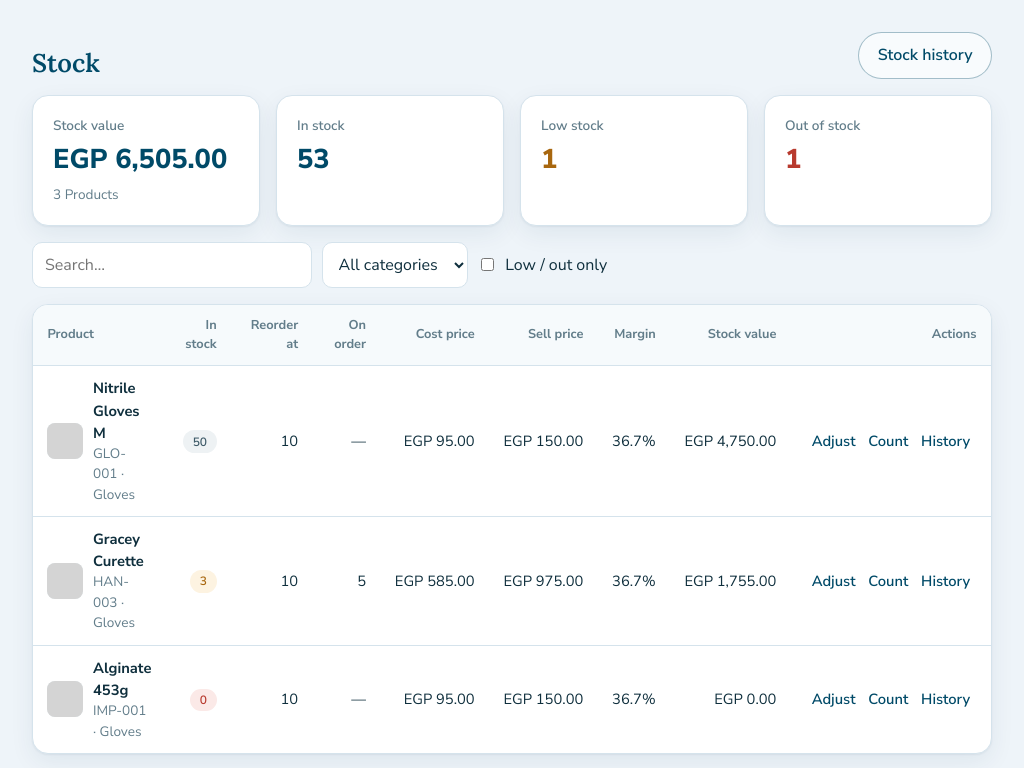
Test: Stock page › low/out filter and search narrow the list
Expected: the text "Gracey Curette" is shown, [93,529,144,571]
Click the checkbox labelled "Low / out only" at (488, 265), box [481,258,494,272]
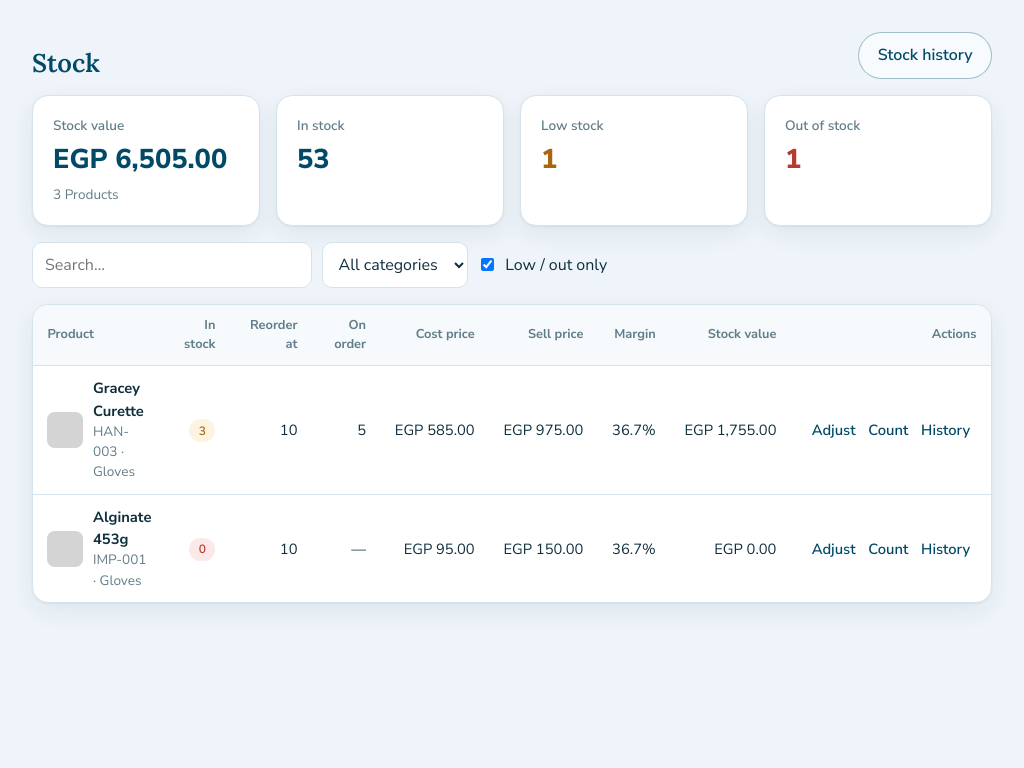
Expected: the text "Gracey Curette" is shown, [93,378,144,421]
Expected: the text "Nitrile Gloves M" is gone
Type "imp-001" into the search field with placeholder "Search…" at (172, 265), box [32,242,312,288]
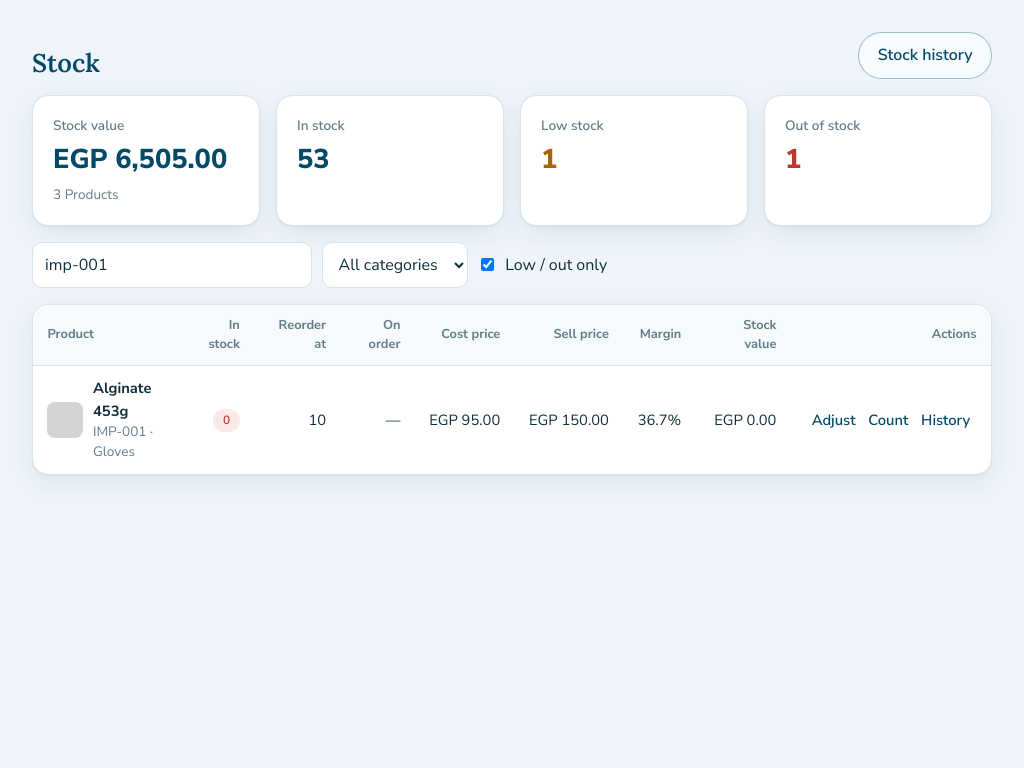
Expected: the text "Alginate 453g" is shown, [93,378,151,421]
Expected: the text "Gracey Curette" is gone
